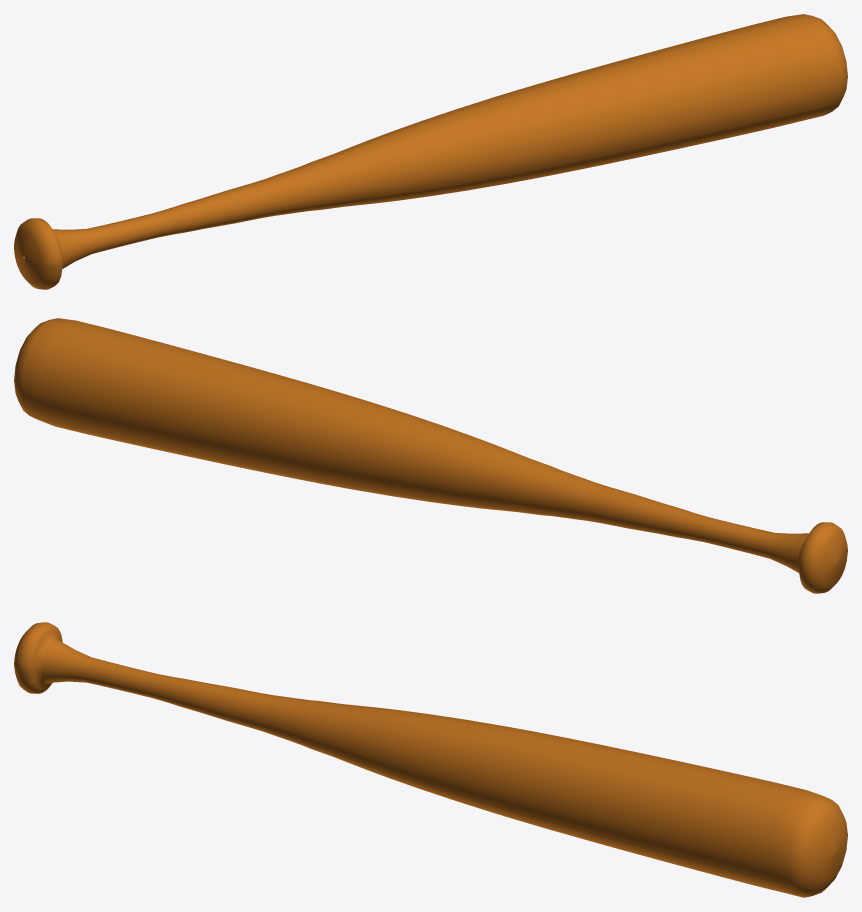
Rendered from banqiugun.fbx.
The picture shows the model from 3 angles, top to bottom: view 1: azimuth 30°, elevation 25°; view 2: azimuth 150°, elevation 25°; view 3: azimuth 330°, elevation 25°; orthographic projection.
Parts seen in each view (by area): view 1: nurbsToPoly1; view 2: nurbsToPoly1; view 3: nurbsToPoly1.
Part boxes in pixels (box(x1,y1,x2,y2)): nurbsToPoly1: box(14, 14, 847, 289); nurbsToPoly1: box(14, 318, 847, 593); nurbsToPoly1: box(14, 622, 847, 897).
Size of the model in its own units: 119 by 13.57 by 13.57.
